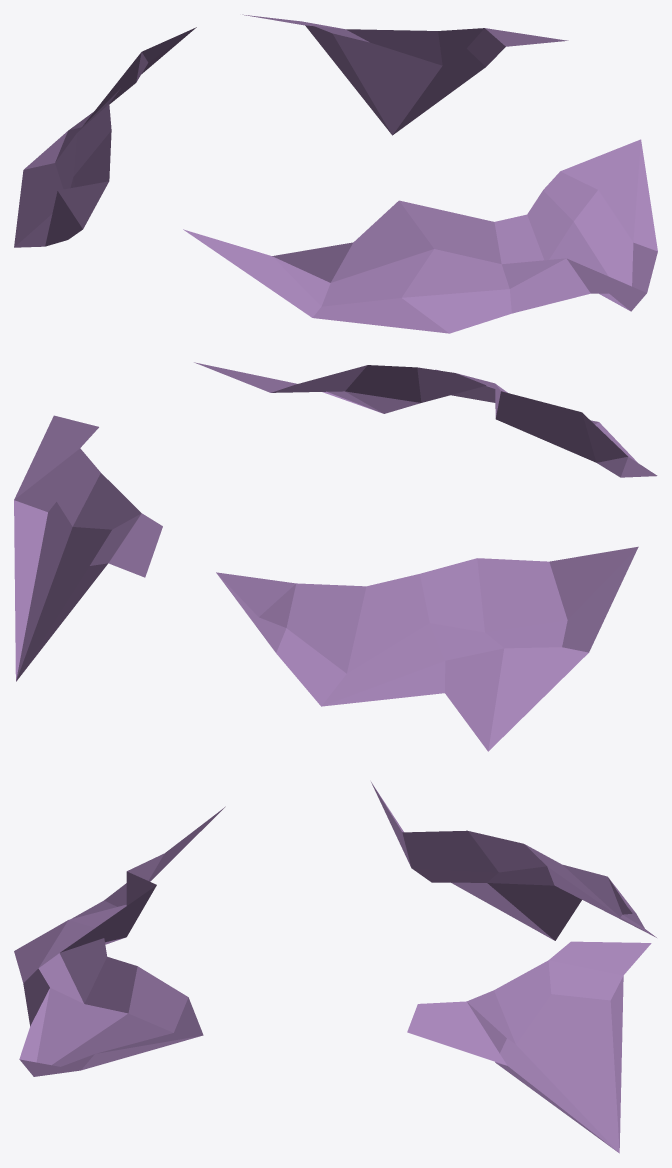
Rendered from MUNTANHA_.fbx.
3 renders of one model, top to bottom at view 1: azimuth 30°, elevation 25°; view 2: azimuth 150°, elevation 25°; view 3: azimuth 270°, elevation 25°, orthographic. The views are drawn at different scales.
Visible parts, largest first — view 1: Torus; view 2: Torus; view 3: Torus.
Boxes of the visible parts, x1,y1,x2,y2 form: Torus: [14, 14, 657, 333]; Torus: [14, 362, 657, 751]; Torus: [14, 782, 656, 1153].
Bounding box in the file's own units: 337 × 97.34 × 354.
